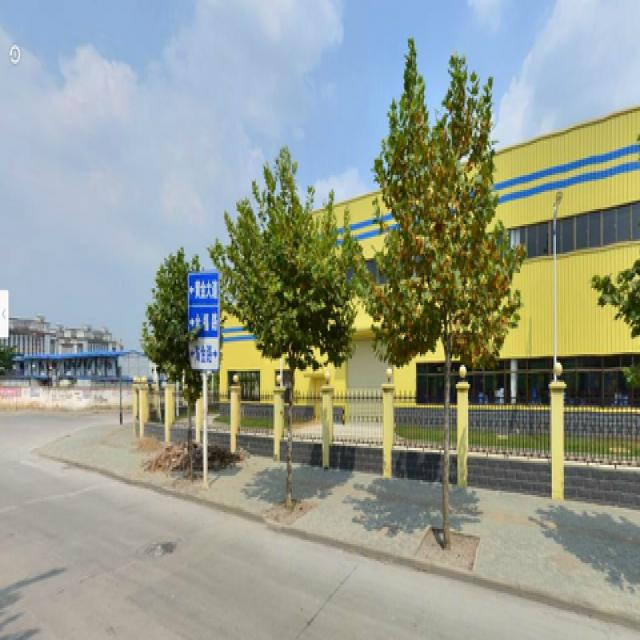meta: (393, 105, 491, 561), (223, 175, 324, 495)
